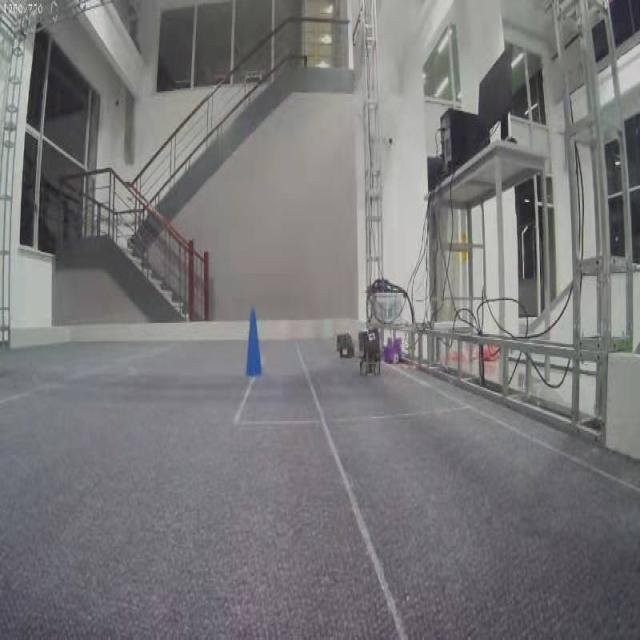cone: (244, 306, 262, 375)
